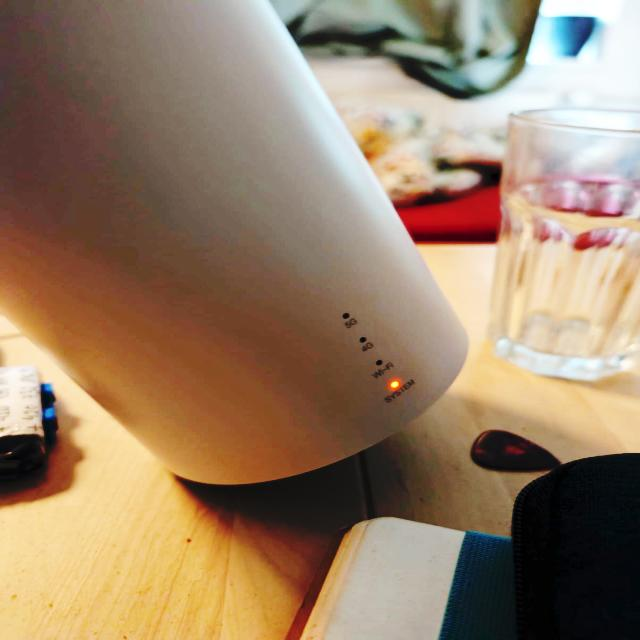modem: (0, 0, 472, 499)
off: (368, 355, 392, 371), (335, 309, 359, 323), (351, 331, 370, 347)
orange: (384, 379, 406, 392)
